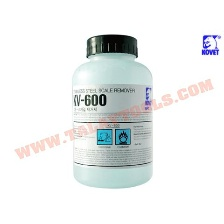cleaning_solution: (69, 33, 155, 191)
